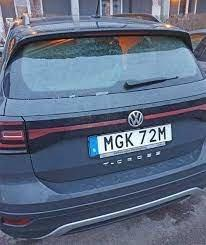license-plates: (89, 124, 173, 158)
